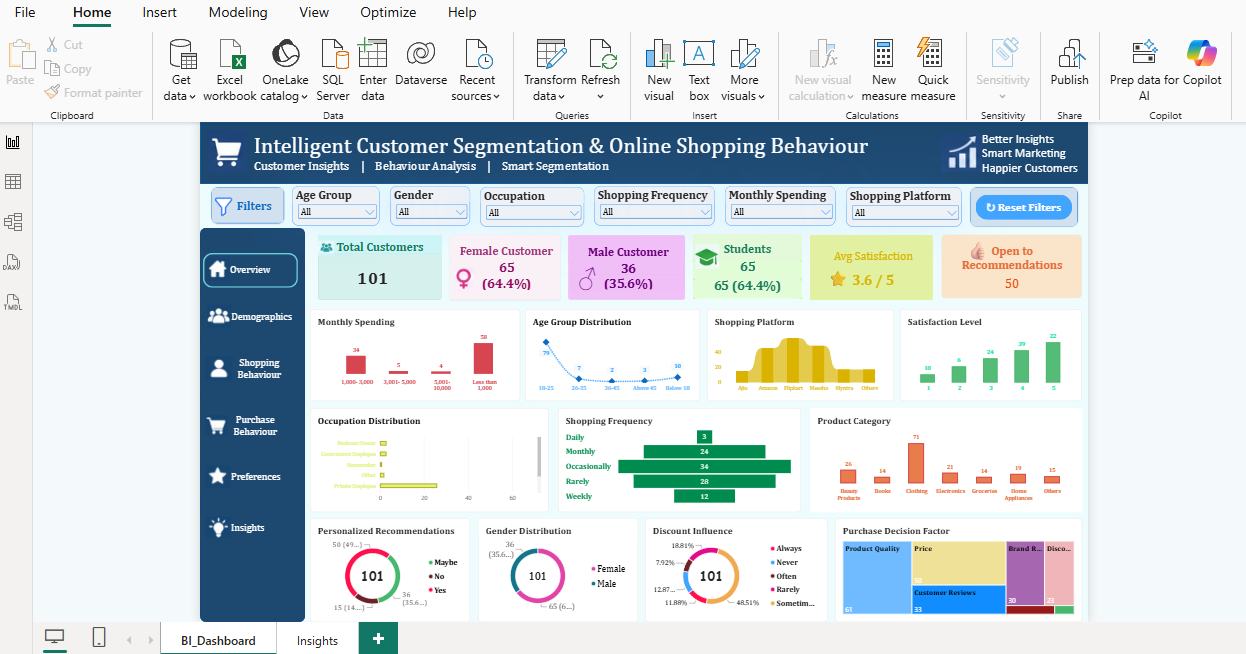

The page's visual inventory and layout, read from the dashboard file:
{"tool":"powerbi","page":{"name":"BI_Dashboard","canvas":[1920,1080],"ordinal":0},"visuals":[{"type":"shape","box":[0,0,1920.2,133.9],"z":0},{"type":"textbox","box":[10.8,15.1,1909.4,133.9],"z":1000},{"type":"textbox","box":[45.4,15.1,86.4,95],"z":2000},{"type":"image","box":[0,0,112.3,110.2],"z":3000},{"type":"shape","box":[0,228.8,227,851.1],"z":4000},{"type":"image","box":[1600.6,23.8,88.6,86.4],"z":5000},{"type":"textbox","box":[1689.1,19.4,231.1,129.6],"z":6000},{"type":"slicer","title":"Gender","fields":{"Values":["Intelligent Customer Segmentation -Final.Gender"]},"box":[410.4,138.2,172.7,86.4],"z":7000},{"type":"slicer","title":"Shopping Frequency ","fields":{"Values":["Intelligent Customer Segmentation -Final.Shopping_Frequency"]},"box":[851,138.2,261.4,86.4],"z":8000},{"type":"slicer","title":"Age Group","fields":{"Values":["Intelligent Customer Segmentation -Final.Age_Group"]},"box":[198.7,138.2,188.6,86.4],"z":9000},{"type":"slicer","title":"Occupation","fields":{"Values":["Intelligent Customer Segmentation -Final.Occupation"]},"box":[604.8,140.4,225,86.4],"z":10000},{"type":"slicer","title":"Monthly Spending ","fields":{"Values":["Intelligent Customer Segmentation -Final.Monthly_Spend"]},"box":[1134,138.2,238.6,86.4],"z":11000},{"type":"slicer","title":"Shopping Platform","fields":{"Values":["Shopping platform.Preferred_Platform"]},"box":[1395.4,140.4,250,86.4],"z":12000},{"type":"shape","box":[1663.2,140.4,234.1,86.4],"z":13000},{"type":"actionButton","box":[1674,155.5,211.4,56.8],"z":14000},{"type":"shape","title":"Filter shape","box":[23.8,140.4,159.1,79.5],"z":15000},{"type":"textbox","title":"Filter symbol","box":[0,161.4,47.7,40.9],"z":16000},{"type":"image","box":[23.8,149,56.8,70.5],"z":17000},{"type":"cardVisual","title":"Total Customers","fields":{"Data":["CountNonNull(Intelligent Customer Segmentation -Final.Timestamp)"]},"box":[255,245,267.5,140],"z":18000},{"type":"cardVisual","title":"Female Customer","fields":{"Data":["Intelligent Customer Segmentation -Final.Female Count","Intelligent Customer Segmentation -Final.Female Percentage"]},"box":[540,245,237.5,140],"z":19000},{"type":"cardVisual","title":"Male Customer","fields":{"Data":["Intelligent Customer Segmentation -Final.Male Count","Intelligent Customer Segmentation -Final.Male Percentage"]},"box":[795,245,252.5,140],"z":20000},{"type":"cardVisual","title":"Students","fields":{"Data":["Intelligent Customer Segmentation -Final.Students Count","Intelligent Customer Segmentation -Final.Student Customers Card"]},"box":[1065,242.5,235,140],"z":21000},{"type":"cardVisual","fields":{"Data":["Avg(Intelligent Customer Segmentation -Final.Satisfaction)"]},"box":[1317.5,245,265,140],"z":22000},{"type":"cardVisual","fields":{"Data":["CountNonNull(Intelligent Customer Segmentation -Final.Personalized_Recommendations)"]},"box":[1600,242.5,305,140],"z":23000},{"type":"image","title":"Total customers symbol","box":[254.9,250.6,34.6,38.9],"z":24000},{"type":"image","title":"Female customer symbol","box":[540,312.5,60,55],"z":25000},{"type":"image","title":"Student symbol","box":[1065,262.5,62,52.5],"z":26000},{"type":"textbox","title":"Satisfaction symbol","box":[1357.5,315,75,72.5],"z":27000},{"type":"textbox","title":"Recommendations symbol","box":[1655,250,97.5,60],"z":28000},{"type":"textbox","title":"Male customer symbol","box":[817.5,297.5,65,72.5],"z":29000},{"type":"lineChart","title":"Age Group Distribution ","fields":{"Category":["Intelligent Customer Segmentation -Final.Age_Group"],"Y":["CountNonNull(Intelligent Customer Segmentation -Final.Age_Group)"]},"box":[702,403.9,378,198.7],"z":30000},{"type":"donutChart","title":"Gender Distribution","fields":{"Category":["Intelligent Customer Segmentation -Final.Gender"],"Y":["CountNonNull(Intelligent Customer Segmentation -Final.Gender)"]},"box":[600.5,855.4,345.6,224.6],"z":31000},{"type":"clusteredBarChart","title":"Occupation Distribution ","fields":{"Category":["Intelligent Customer Segmentation -Final.Occupation"],"Y":["CountNonNull(Intelligent Customer Segmentation -Final.Occupation)"]},"box":[237.6,617.8,516.2,224.6],"z":32000},{"type":"funnel","title":"Shopping Frequency ","fields":{"Category":["Intelligent Customer Segmentation -Final.Shopping_Frequency"],"Y":["CountNonNull(Intelligent Customer Segmentation -Final.Shopping_Frequency)"]},"box":[773.3,617.8,524.9,224.6],"z":33000},{"type":"clusteredColumnChart","title":"Monthly Spending","fields":{"Category":["Intelligent Customer Segmentation -Final.Monthly_Spend"],"Y":["CountNonNull(Intelligent Customer Segmentation -Final.Monthly_Spend)"]},"box":[237.6,403.9,453.6,198.7],"z":34000},{"type":"columnChart","title":"Product Category","fields":{"Category":["Product Category.Purchase_Category"],"Y":["CountNonNull(Product Category.Purchase_Category)"]},"box":[1317.6,617.8,587.5,224.6],"z":35000},{"type":"columnChart","title":"Shopping  Platform ","fields":{"Category":["Shopping platform.Preferred_Platform"],"Y":["CountNonNull(Shopping platform.Preferred_Platform)"]},"box":[1095.1,403.9,403.9,198.7],"z":36000},{"type":"treemap","title":"Purchase Decision Factor","fields":{"Group":["Purchase Decision(Influence).Purchase_Influence"],"Values":["CountNonNull(Purchase Decision(Influence).Purchase_Influence)"]},"box":[1371.6,855.4,533.5,224.6],"z":37000},{"type":"donutChart","title":"Personalized Recommendations","fields":{"Category":["Intelligent Customer Segmentation -Final.Personalized_Recommendations"],"Y":["CountNonNull(Intelligent Customer Segmentation -Final.Personalized_Recommendations)"]},"box":[237.6,855.4,345.6,224.6],"z":38000},{"type":"columnChart","title":"Satisfaction Level","fields":{"Category":["Intelligent Customer Segmentation -Final.Satisfaction"],"Y":["Avg(Intelligent Customer Segmentation -Final.Satisfaction)"]},"box":[1512,403.9,393.1,198.7],"z":39000},{"type":"donutChart","title":"Discount Influence","fields":{"Category":["Intelligent Customer Segmentation -Final.Discount_Influence"],"Y":["CountNonNull(Intelligent Customer Segmentation -Final.Discount_Influence)"]},"box":[961.2,855.4,395.3,224.6],"z":40000},{"type":"actionButton","box":[0,280,226,78],"z":41000},{"type":"actionButton","box":[0,386,214,68],"z":42000},{"type":"actionButton","box":[0,480,197.5,97.5],"z":43000},{"type":"actionButton","box":[0,597.5,197.5,115],"z":44000},{"type":"shape","box":[7.5,282.5,205,75],"z":45000},{"type":"actionButton","box":[0,730,225,72.5],"z":46000},{"type":"actionButton","box":[0,842.5,215,62.5],"z":47000}]}

Visuals, with their boxes on the page's 1920x1080 design canvas (x1, y1, x2, y2). These are canvas units, not pixel positions in the 1246x654 screenshot, which may show the page scaled, cropped or inside an application window:
shape: [0, 0, 1920, 134]
textbox: [11, 15, 1920, 149]
textbox: [45, 15, 132, 110]
image: [0, 0, 112, 110]
shape: [0, 229, 227, 1080]
image: [1601, 24, 1689, 110]
textbox: [1689, 19, 1920, 149]
"Gender" slicer: [410, 138, 583, 225]
"Shopping Frequency " slicer: [851, 138, 1112, 225]
"Age Group" slicer: [199, 138, 387, 225]
"Occupation" slicer: [605, 140, 830, 227]
"Monthly Spending " slicer: [1134, 138, 1373, 225]
"Shopping Platform" slicer: [1395, 140, 1645, 227]
shape: [1663, 140, 1897, 227]
actionButton: [1674, 156, 1885, 212]
"Filter shape" shape: [24, 140, 183, 220]
"Filter symbol" textbox: [0, 161, 48, 202]
image: [24, 149, 81, 220]
"Total Customers" cardVisual: [255, 245, 522, 385]
"Female Customer" cardVisual: [540, 245, 778, 385]
"Male Customer" cardVisual: [795, 245, 1048, 385]
"Students" cardVisual: [1065, 242, 1300, 382]
cardVisual - Avg(Intelligent Customer Segmentation -Final.Satisfaction): [1318, 245, 1582, 385]
cardVisual - CountNonNull(Intelligent Customer Segmentation -Final.Personalized_Recommendations): [1600, 242, 1905, 382]
"Total customers symbol" image: [255, 251, 290, 290]
"Female customer symbol" image: [540, 312, 600, 368]
"Student symbol" image: [1065, 262, 1127, 315]
"Satisfaction symbol" textbox: [1358, 315, 1432, 388]
"Recommendations symbol" textbox: [1655, 250, 1752, 310]
"Male customer symbol" textbox: [818, 298, 882, 370]
"Age Group Distribution " lineChart: [702, 404, 1080, 603]
"Gender Distribution" donutChart: [600, 855, 946, 1080]
"Occupation Distribution " clusteredBarChart: [238, 618, 754, 842]
"Shopping Frequency " funnel: [773, 618, 1298, 842]
"Monthly Spending" clusteredColumnChart: [238, 404, 691, 603]
"Product Category" columnChart: [1318, 618, 1905, 842]
"Shopping  Platform " columnChart: [1095, 404, 1499, 603]
"Purchase Decision Factor" treemap: [1372, 855, 1905, 1080]
"Personalized Recommendations" donutChart: [238, 855, 583, 1080]
"Satisfaction Level" columnChart: [1512, 404, 1905, 603]
"Discount Influence" donutChart: [961, 855, 1356, 1080]
actionButton: [0, 280, 226, 358]
actionButton: [0, 386, 214, 454]
actionButton: [0, 480, 198, 578]
actionButton: [0, 598, 198, 712]
shape: [8, 282, 212, 358]
actionButton: [0, 730, 225, 802]
actionButton: [0, 842, 215, 905]
